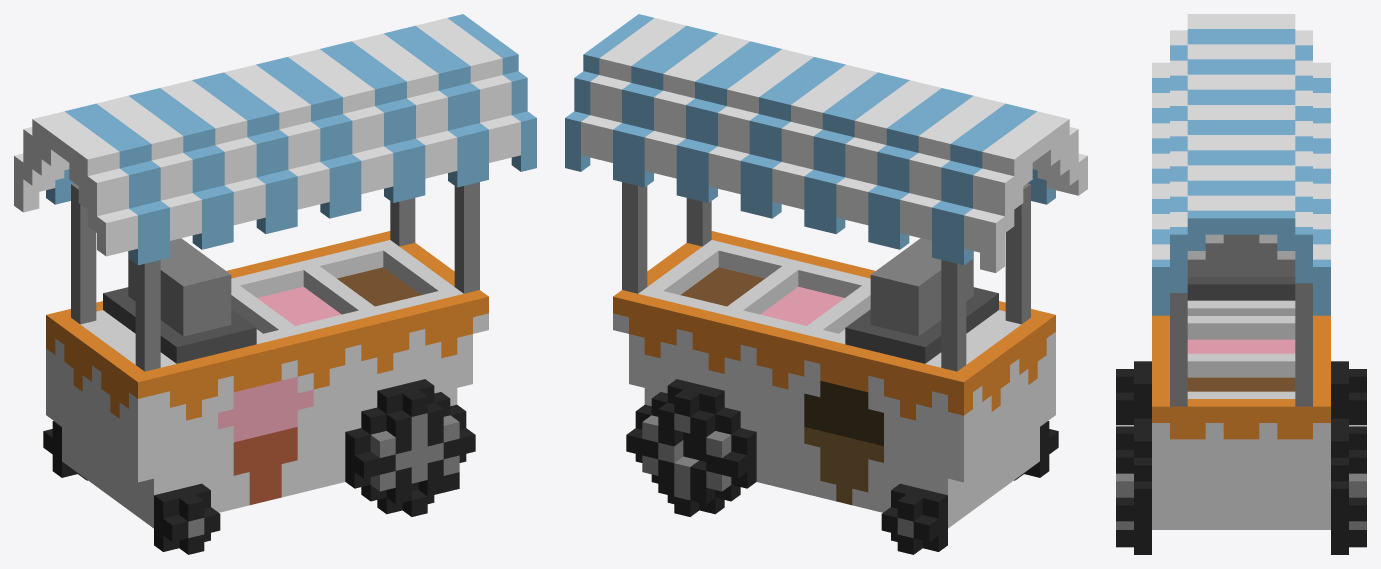
File: id-beach-iceccreamcart.obj
3 renders of one model, left to right at view 1: azimuth 30°, elevation 25°; view 2: azimuth 150°, elevation 25°; view 3: azimuth 270°, elevation 25°, orthographic. The views are drawn at different scales.
Bounding box in the file's own units: 27 × 24 × 14.
Materials: 1 (1 with a texture image).
